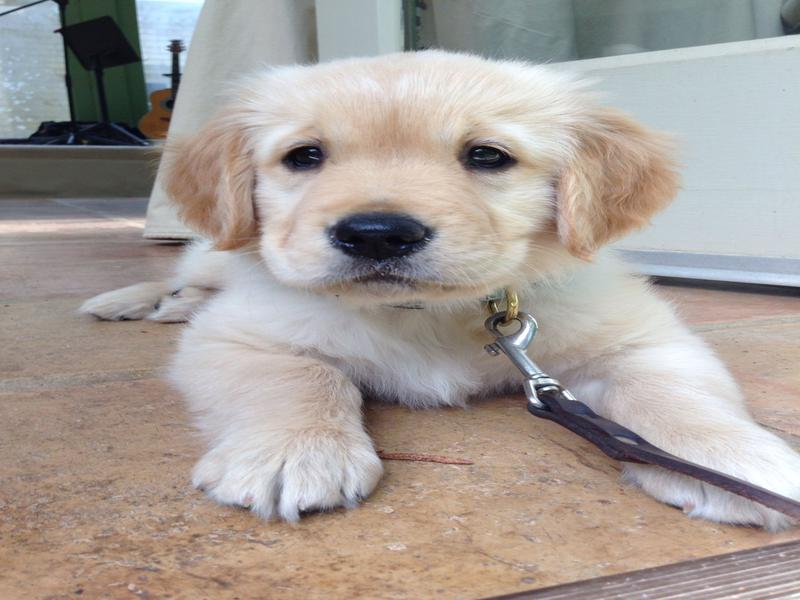dog_down: (80, 48, 800, 544)
